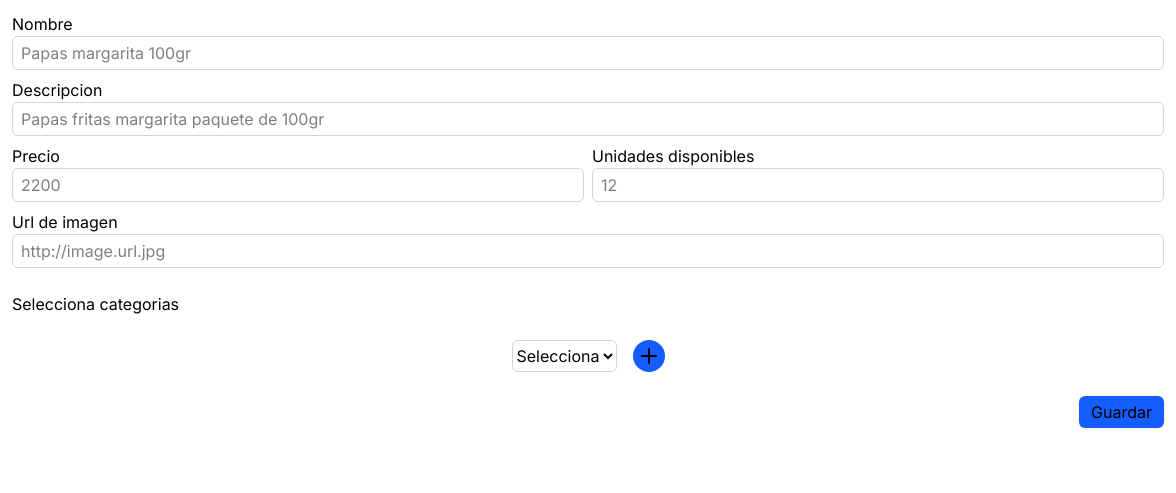
Test case: Create new product component › should advice the user that stock and price should be numbers
Type "alphanumeric1234" into the field with test id "input-stock" at (878, 185), box [592,168,1164,202]
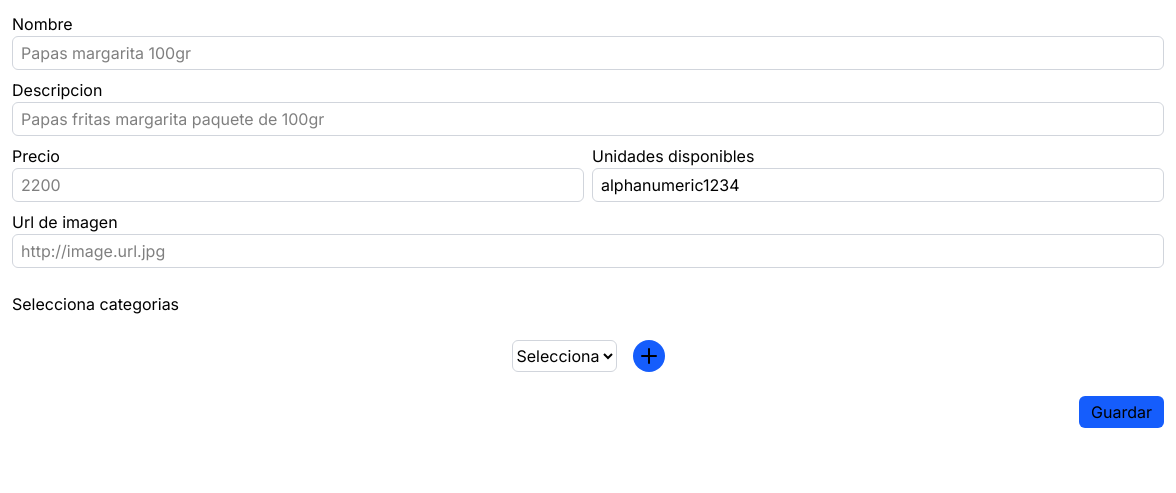
Type "alphanumeric4321" into the field with test id "input-price" at (298, 185), box [12,168,584,202]
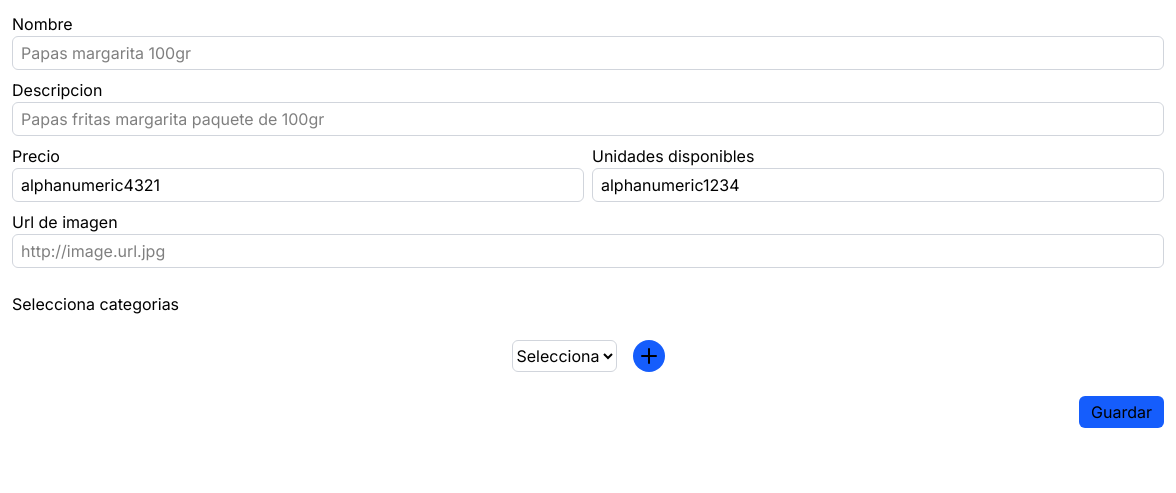
Submit the form with test id "form"
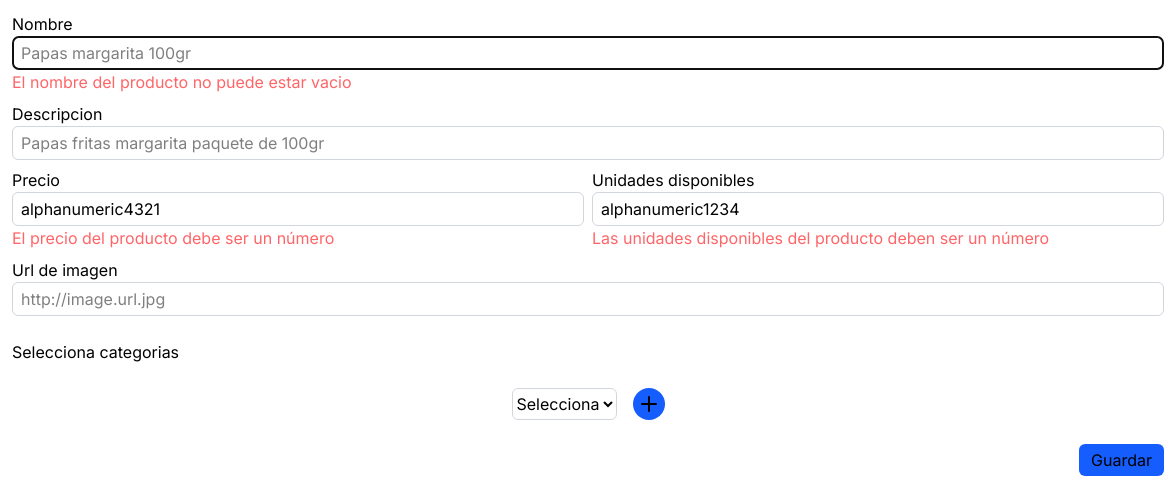
Expected: the text "Las unidades disponibles del producto deben ser un número" is shown, [592,228,1049,248]
Expected: the text "El precio del producto debe ser un número" is shown, [12,228,334,248]
